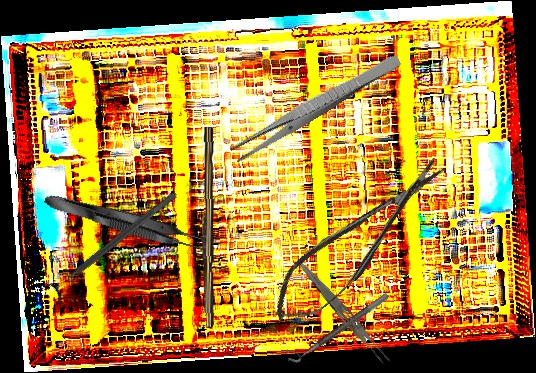Dressing Forceps: (228, 48, 403, 165), (294, 260, 393, 368)
Fixation Ring: (42, 183, 184, 306), (282, 284, 391, 367)
Micro Scissor: (258, 148, 462, 335)
Scalpel Handle: (198, 126, 217, 329)
Tissue Forceps: (41, 187, 211, 257)
